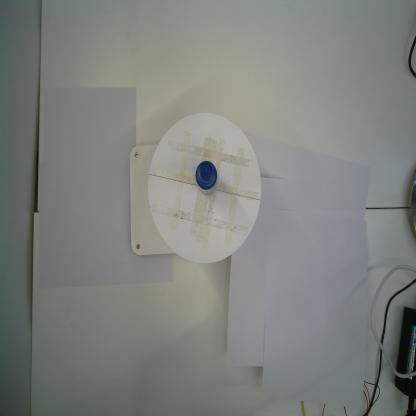Personal Hygiene: (195, 158, 220, 196)
